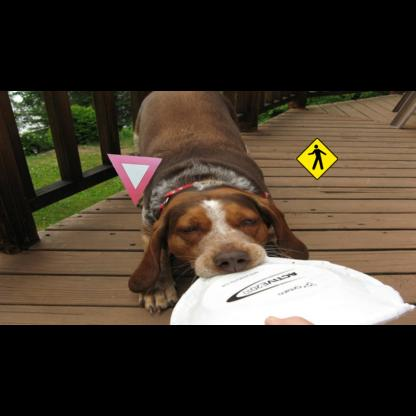A-32a: (296, 137, 339, 180)
R-2: (107, 154, 162, 206)
